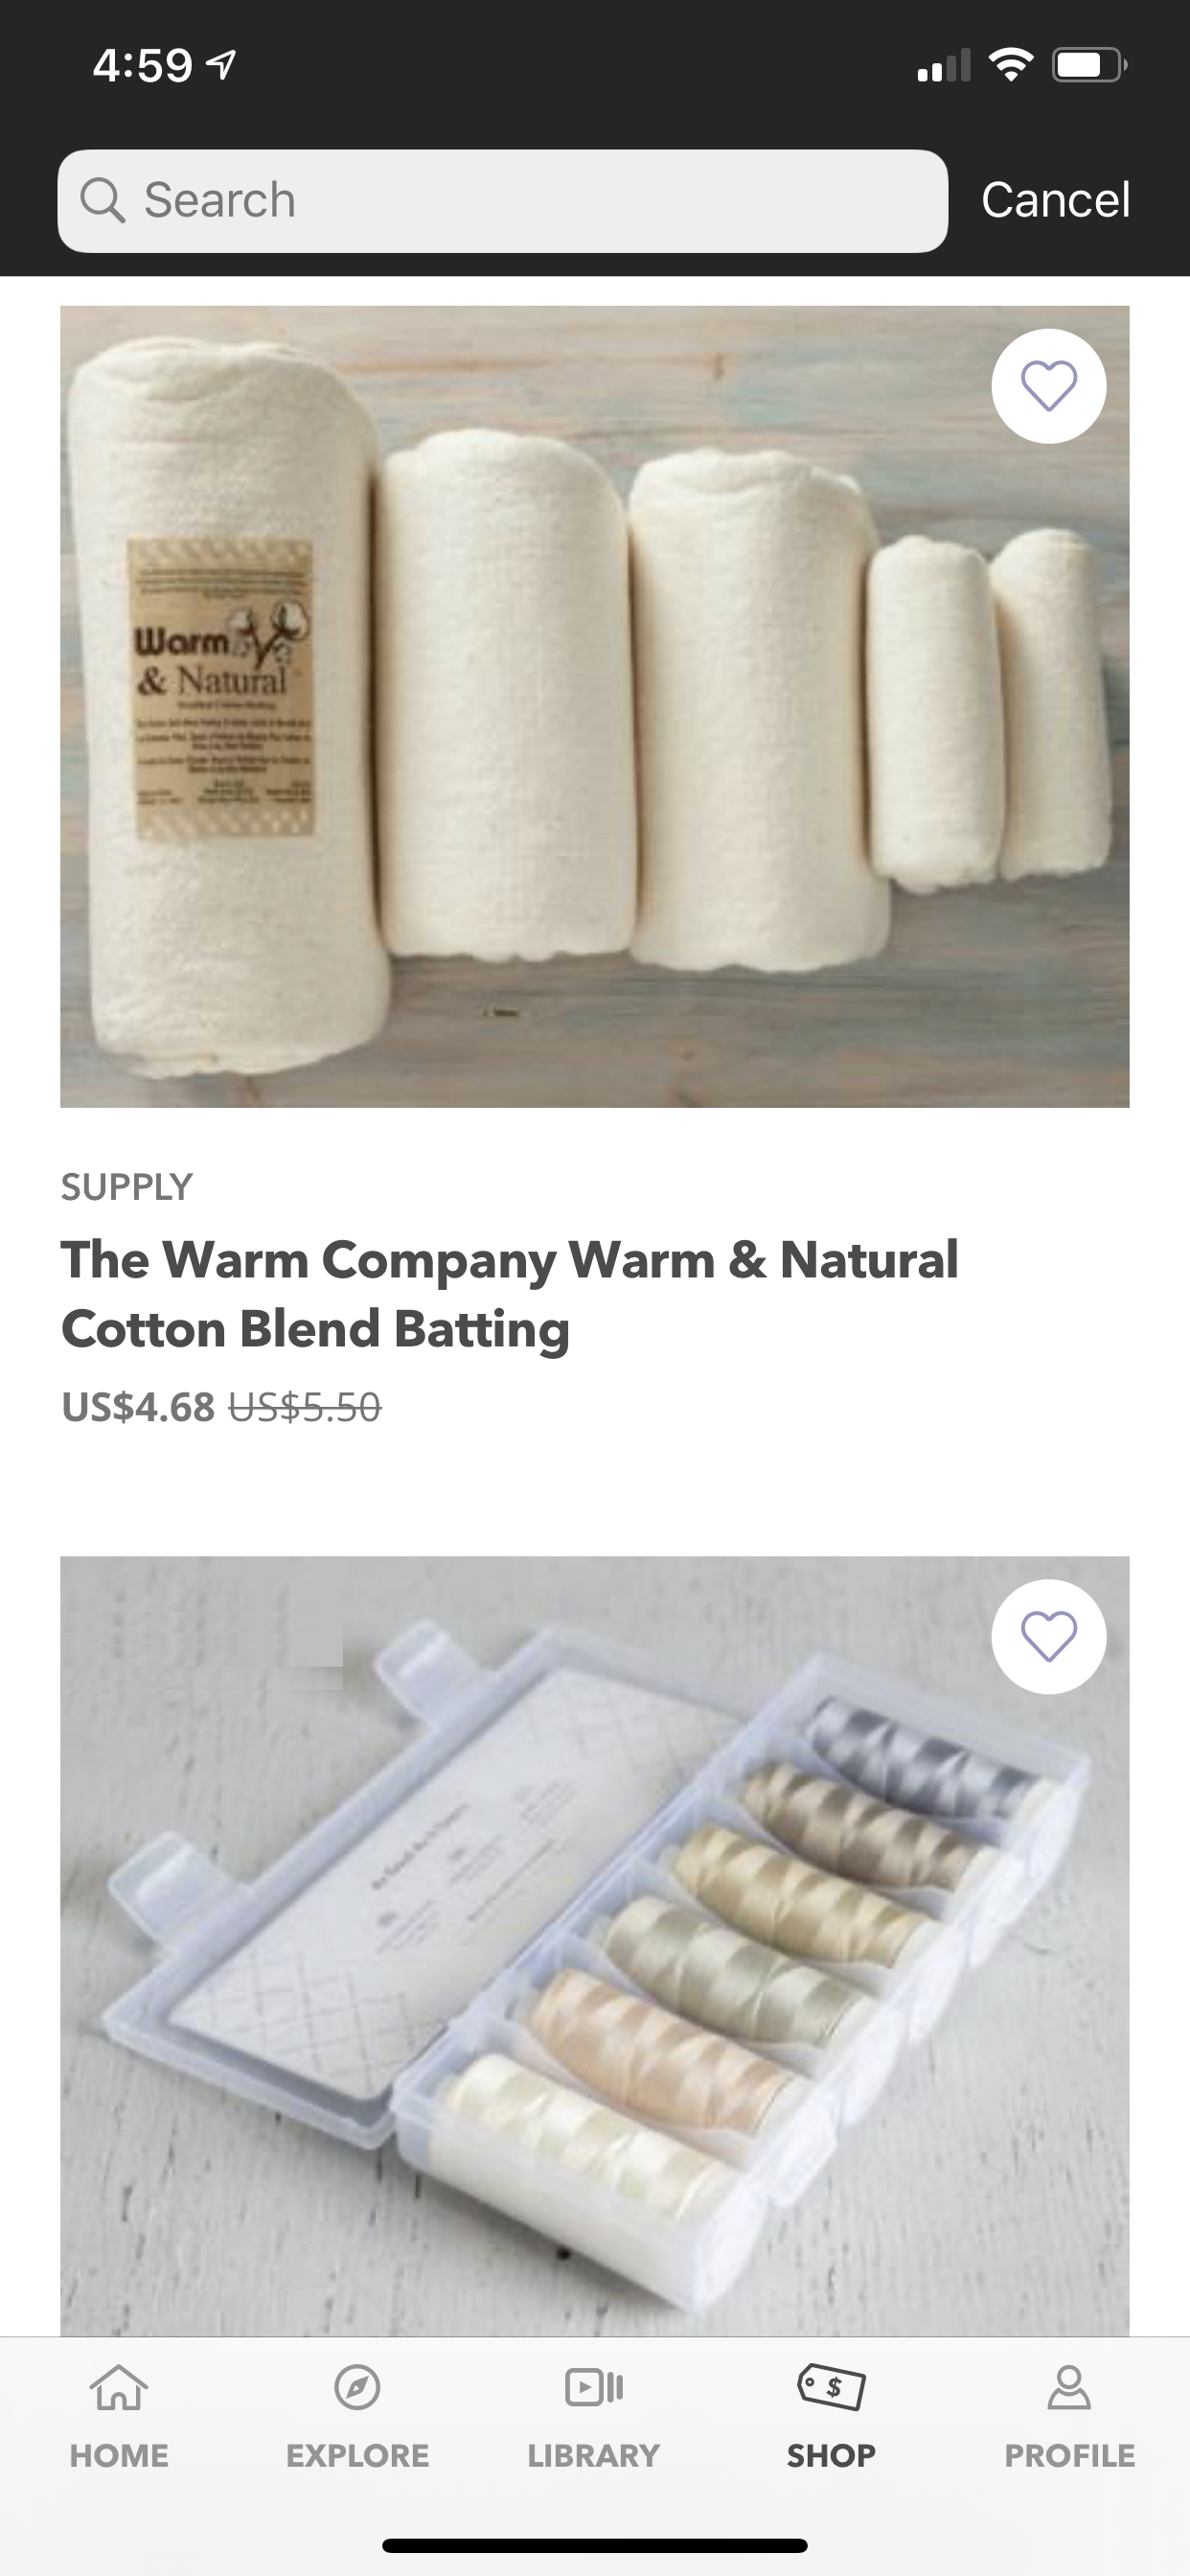EditText: (58, 149, 948, 255)
Icon: (991, 329, 1106, 445), (991, 1579, 1106, 1694), (797, 2361, 866, 2412), (90, 2364, 150, 2410), (565, 2367, 623, 2407), (334, 2362, 380, 2410), (81, 177, 127, 223), (1047, 2364, 1091, 2410)
Image: (61, 306, 1129, 1107), (61, 1556, 1129, 2336)
Text: (61, 1239, 957, 1360), (62, 1390, 383, 1424), (146, 181, 294, 218), (983, 181, 1129, 218), (61, 1171, 194, 1201), (288, 2445, 429, 2468), (529, 2443, 661, 2468), (1004, 2443, 1136, 2468), (71, 2443, 169, 2468), (787, 2443, 876, 2468)
UpperTaskBar: (95, 48, 1128, 84)
